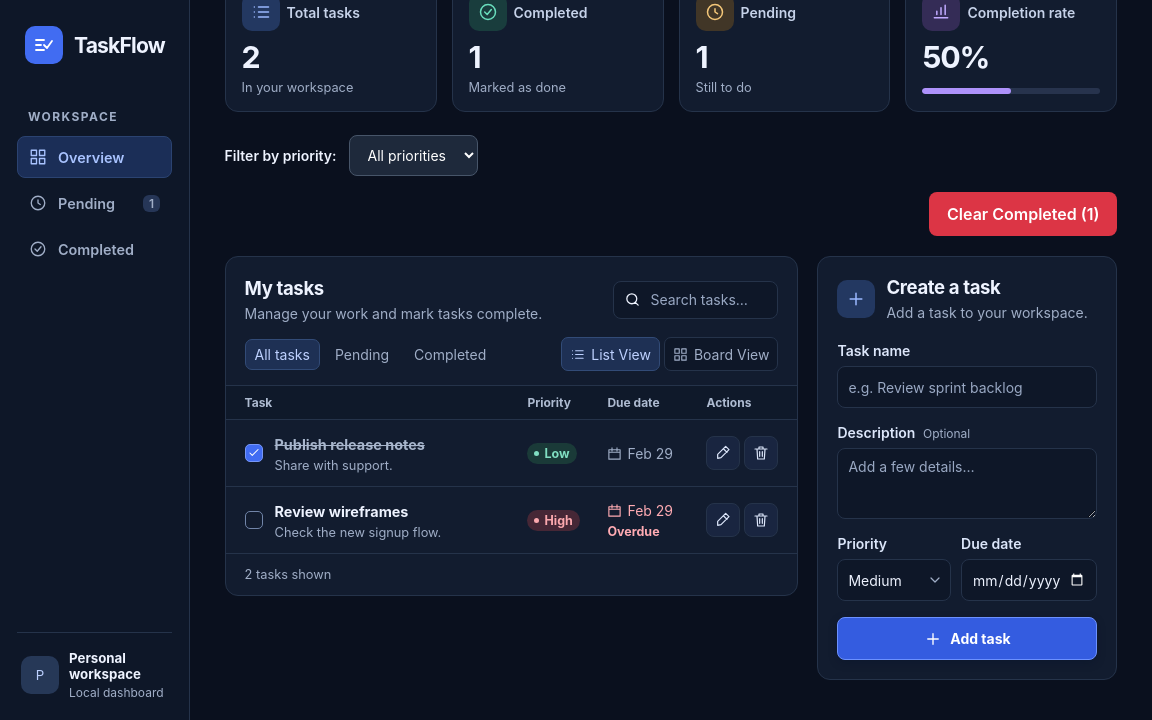
TaskFlow › leaves tasks intact on cancel and removes them only after confirmation
(page scrolled)
Click the button named "Delete: Publish release notes". click: (762,453)
box: 744,436 -> 778,470
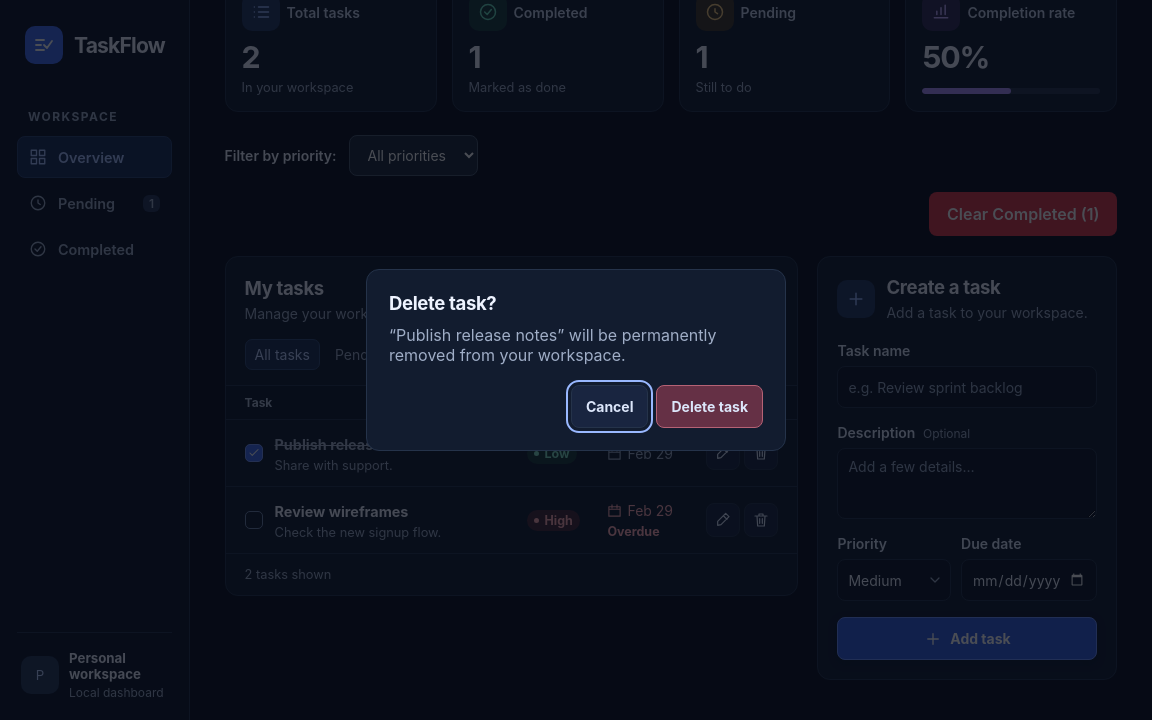
Now the dialog "Delete task?" shows "Publish release notes", box 396,325 -> 557,345
Click the button "Cancel". click: (610,406)
box: 571,385 -> 648,428
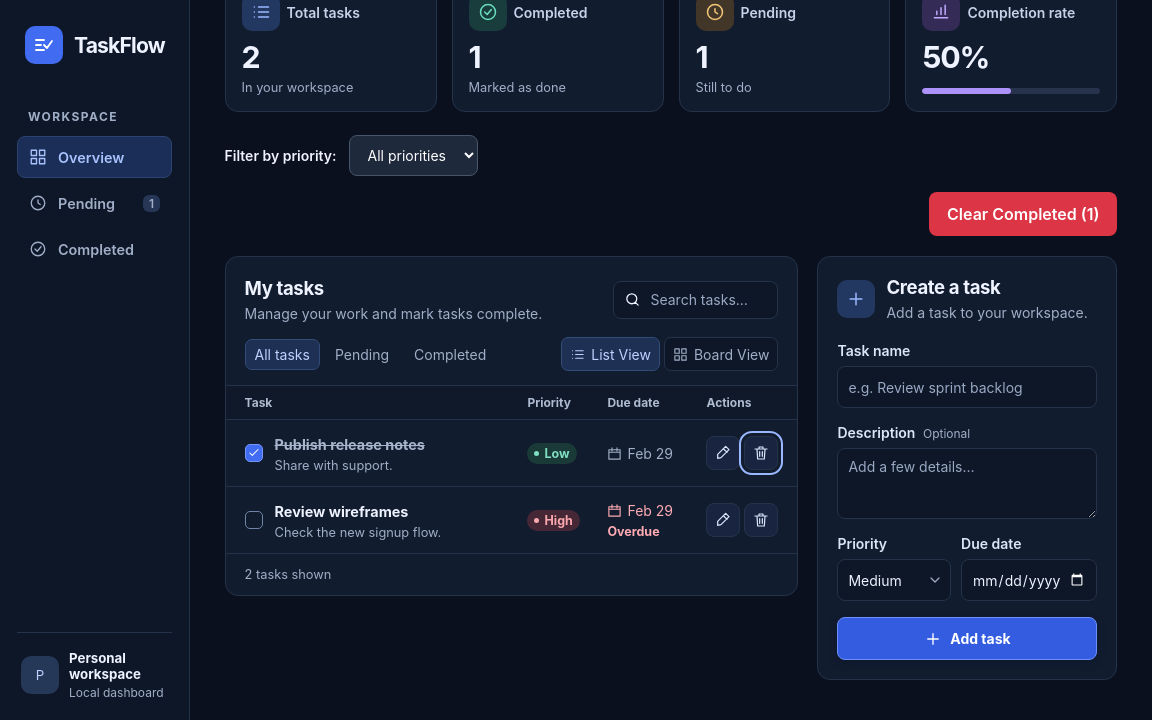
Expected: the text "Publish release notes" is shown, 274,436 -> 425,453
Now the dialog is gone
Click the button named "Delete: Publish release notes". click: (762,453)
box: 744,436 -> 778,470
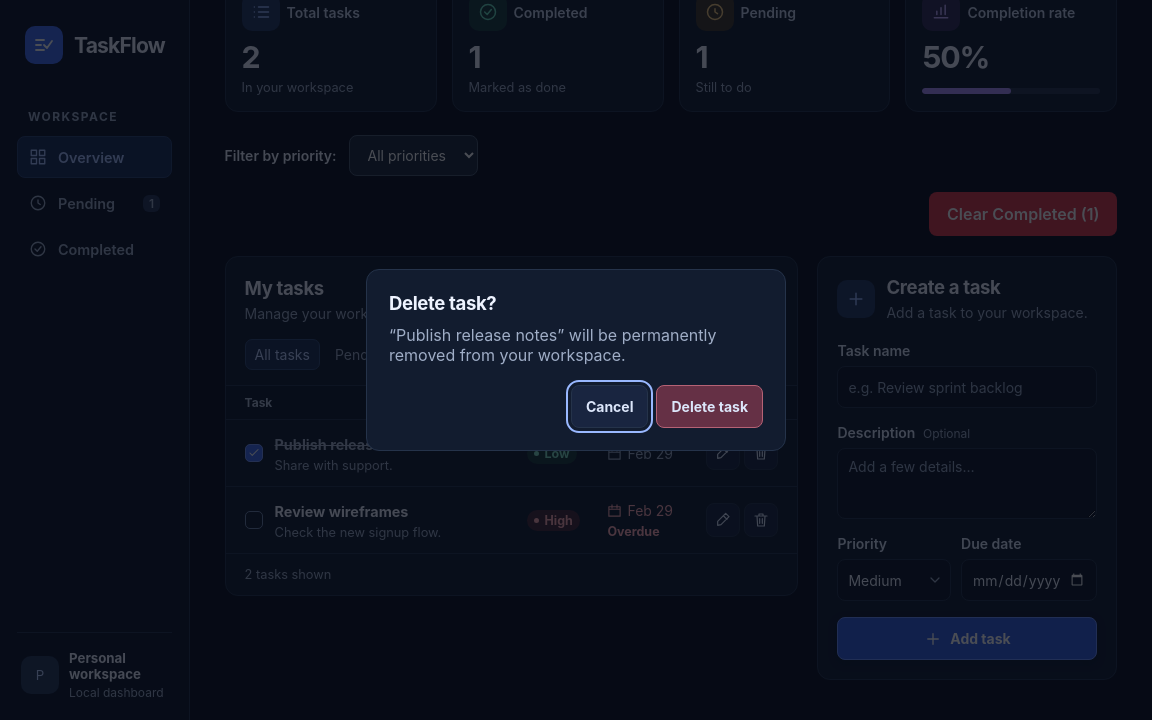
Click the button "Delete task". click: (710,406)
box: 656,385 -> 763,428
(page scrolled)
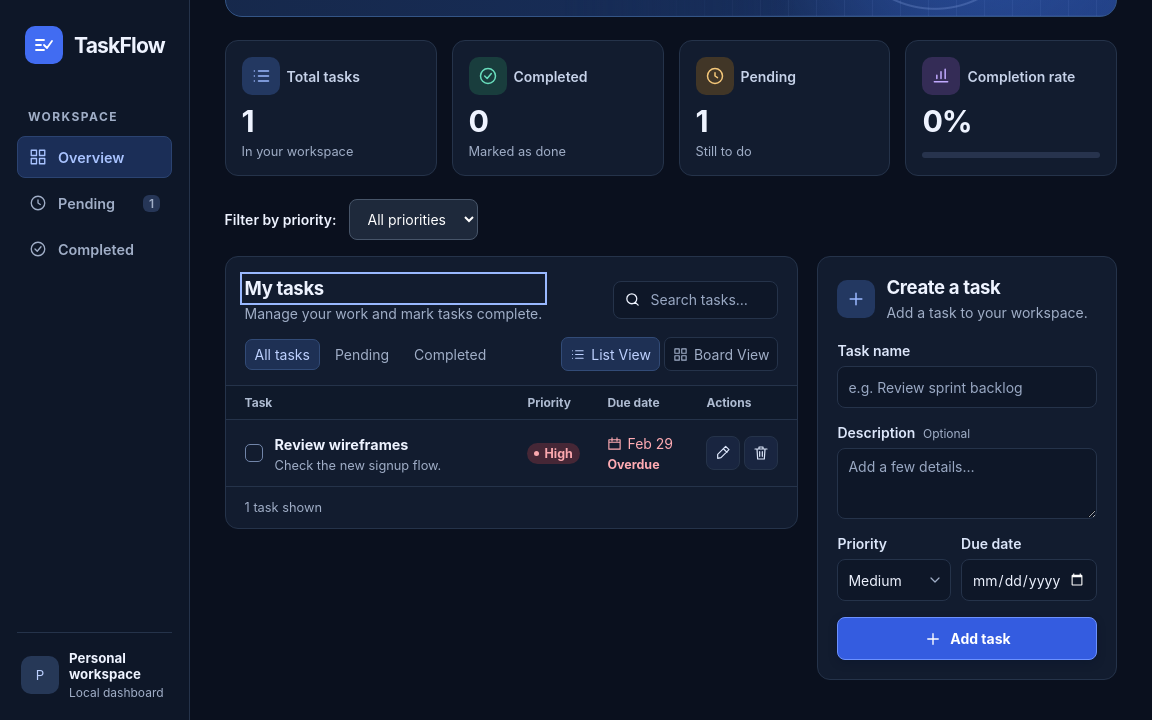
Expected: the element "Completion rate" shows "0%", 922,104 -> 971,140
Now the text "Publish release notes" is gone
Now the element "Total tasks" shows "1", box 242,104 -> 253,140
